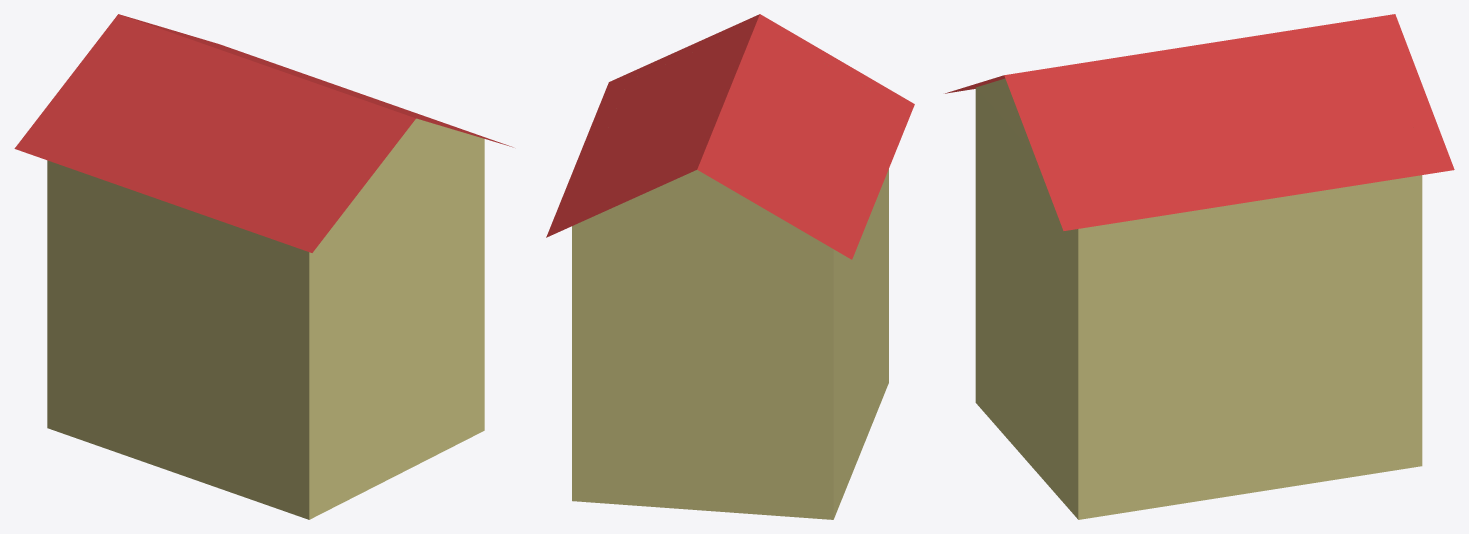
The picture shows the model from 3 angles, left to right: view 1: azimuth 30°, elevation 25°; view 2: azimuth 150°, elevation 25°; view 3: azimuth 270°, elevation 25°; orthographic projection. The views are drawn at different scales.
Bounding box in the file's own units: 13.97 × 15.21 × 12.82.
